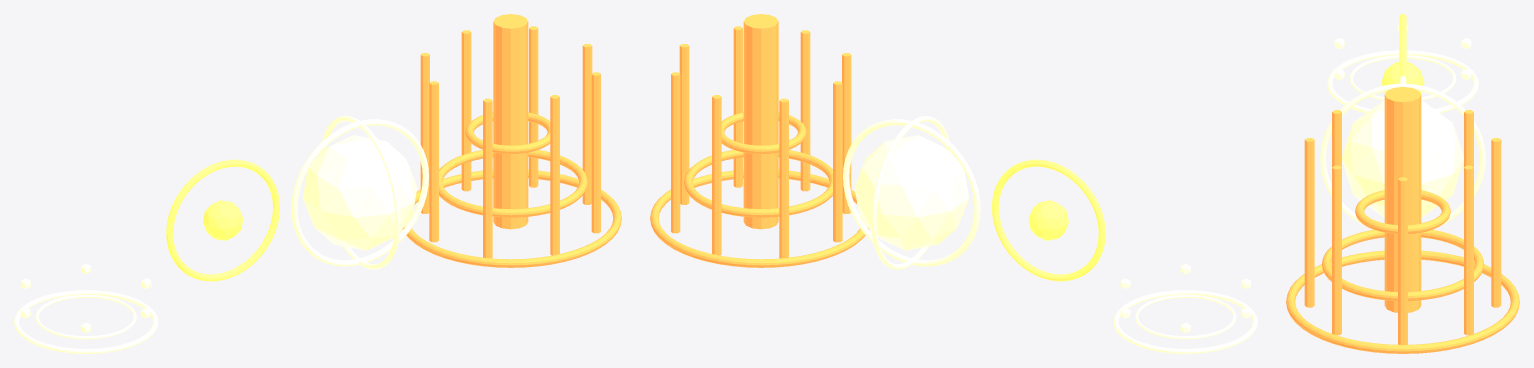
File: aralie_skills_vfx.glb
3 renders of one model, left to right at view 1: azimuth 30°, elevation 25°; view 2: azimuth 150°, elevation 25°; view 3: azimuth 270°, elevation 25°, orthographic. The views are drawn at different scales.
Parts seen in each view (by area): view 1: VFX_Ultimate, VFX_Skill_2, VFX_Skill_1, VFX_Passive; view 2: VFX_Ultimate, VFX_Skill_2, VFX_Skill_1, VFX_Passive; view 3: VFX_Ultimate, VFX_Skill_2, VFX_Passive, VFX_Skill_1.
Boxes of the visible parts, x1=… form: VFX_Ultimate: x1=402, y1=14, x2=621, y2=267; VFX_Skill_2: x1=291, y1=116, x2=428, y2=269; VFX_Skill_1: x1=166, y1=159, x2=279, y2=281; VFX_Passive: x1=14, y1=263, x2=158, y2=353; VFX_Ultimate: x1=650, y1=14, x2=869, y2=267; VFX_Skill_2: x1=843, y1=116, x2=980, y2=269; VFX_Skill_1: x1=992, y1=159, x2=1105, y2=281; VFX_Passive: x1=1113, y1=263, x2=1257, y2=353; VFX_Ultimate: x1=1286, y1=87, x2=1519, y2=353; VFX_Skill_2: x1=1320, y1=76, x2=1485, y2=225; VFX_Passive: x1=1327, y1=24, x2=1478, y2=113; VFX_Skill_1: x1=1381, y1=14, x2=1424, y2=93.
Bounding box in the file's own units: 8.55 × 2.88 × 2.81.
